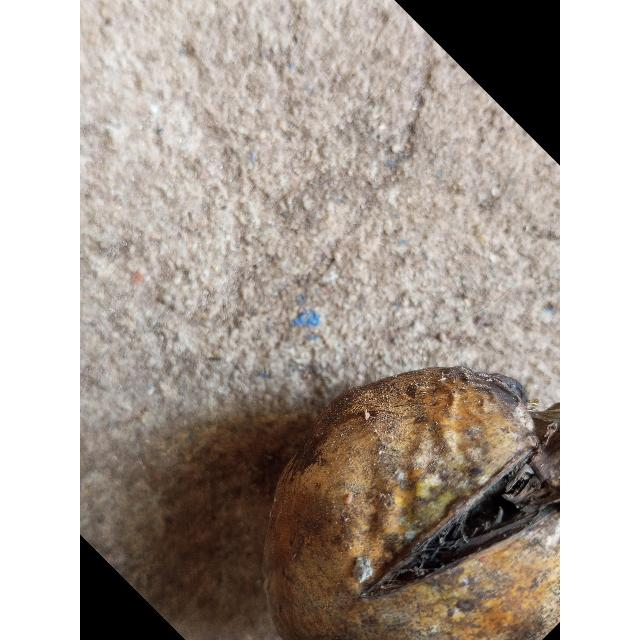damaged: (264, 368, 560, 640)
